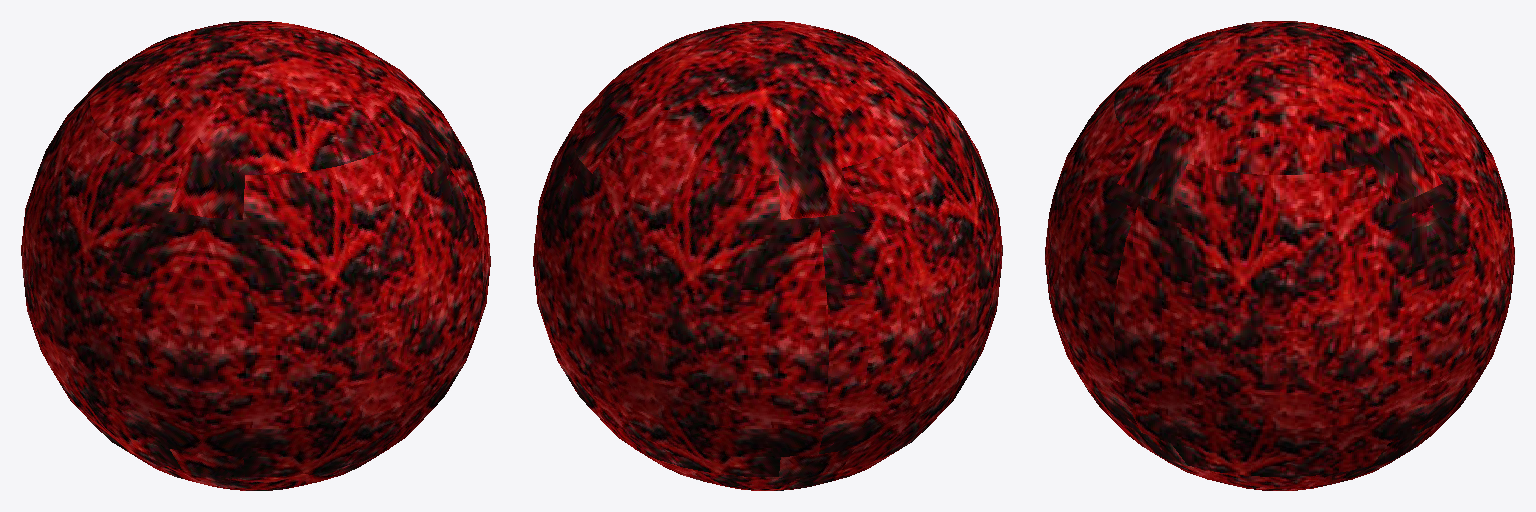
The picture shows the model from 3 angles: view 1: azimuth 30°, elevation 25°; view 2: azimuth 150°, elevation 25°; view 3: azimuth 270°, elevation 25°; orthographic projection.
Parts seen in each view (by area): view 1: blood_particle; view 2: blood_particle; view 3: blood_particle.
Part boxes in pixels (x1,y1,x2,y2): blood_particle: (21,21,490,490); blood_particle: (533,21,1002,490); blood_particle: (1045,21,1514,490).
Bounding box in the file's own units: 2 × 2 × 2.
1 materials, 1 textured.